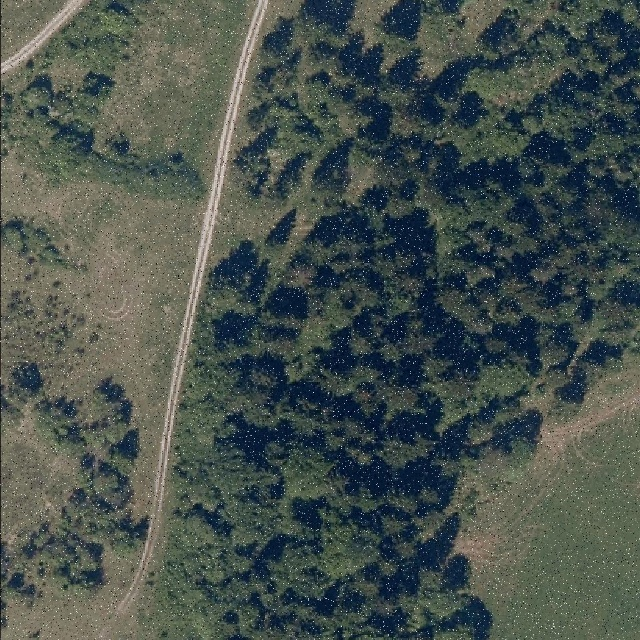vegetation: (168, 0, 638, 640), (2, 0, 203, 205), (1, 361, 142, 605)
